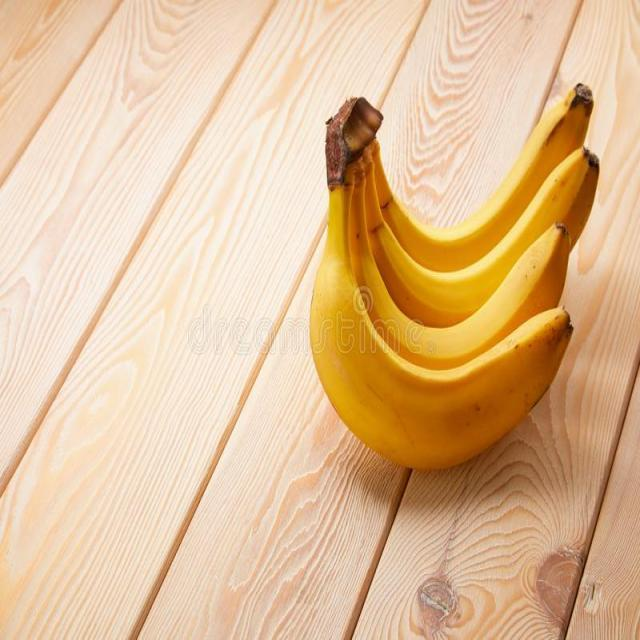banana: (302, 78, 605, 478)
